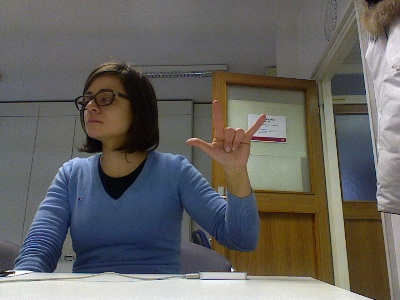我爱你: (182, 96, 269, 165)
